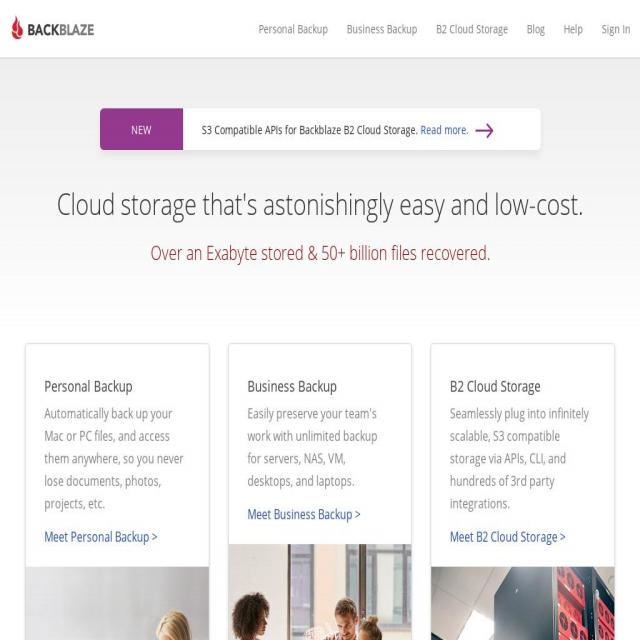login-option: (592, 17, 636, 45)
navigation-blocks: (19, 323, 625, 640), (89, 97, 555, 165)
navigation-links: (242, 12, 640, 50)
